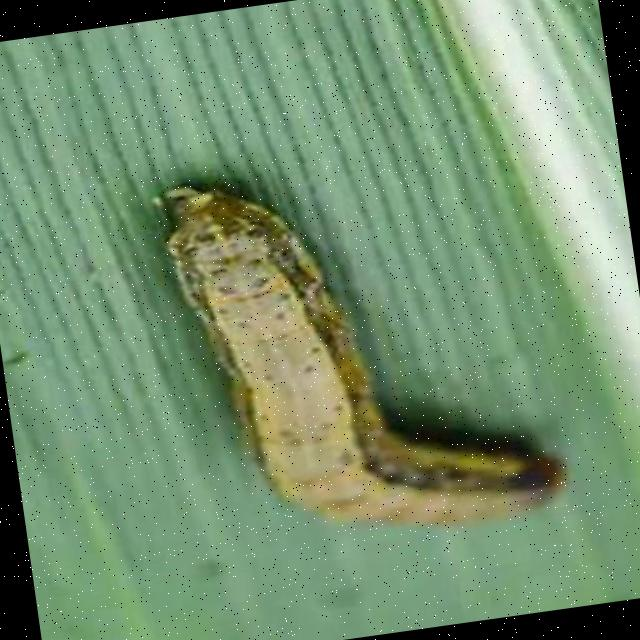worm: (152, 138, 574, 566)
